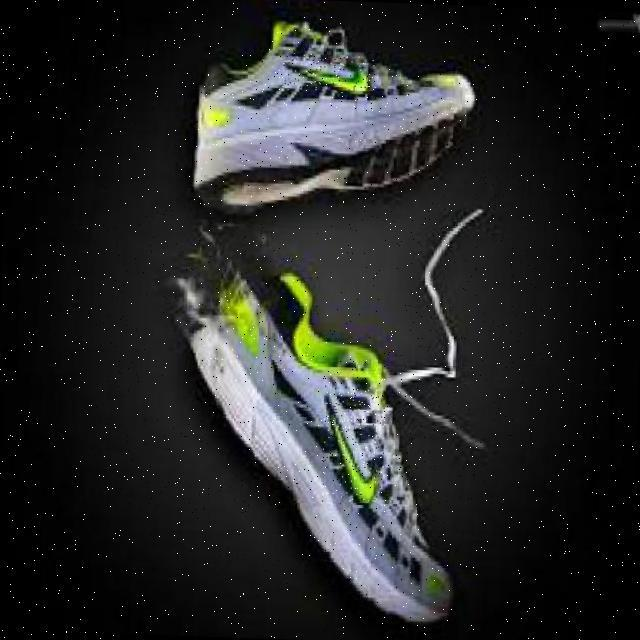Nike: (320, 385, 386, 505), (278, 52, 376, 94)
